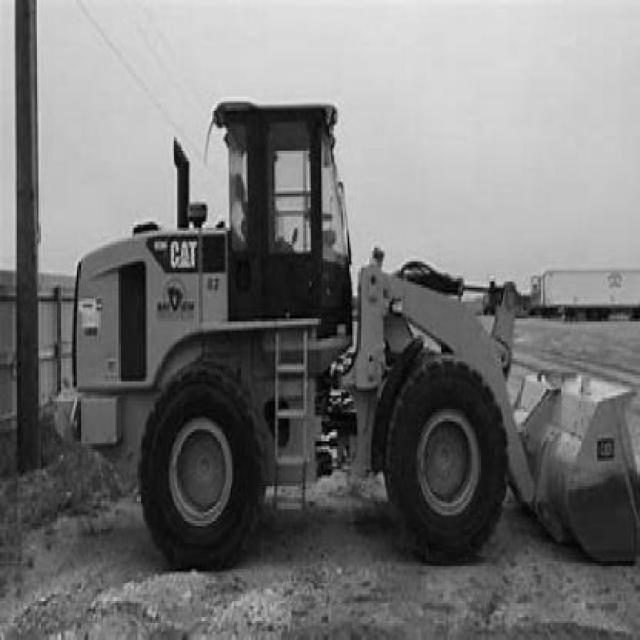Construction Equipment: (53, 102, 640, 573)
